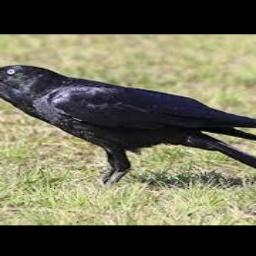Crow: (0, 64, 256, 187)
